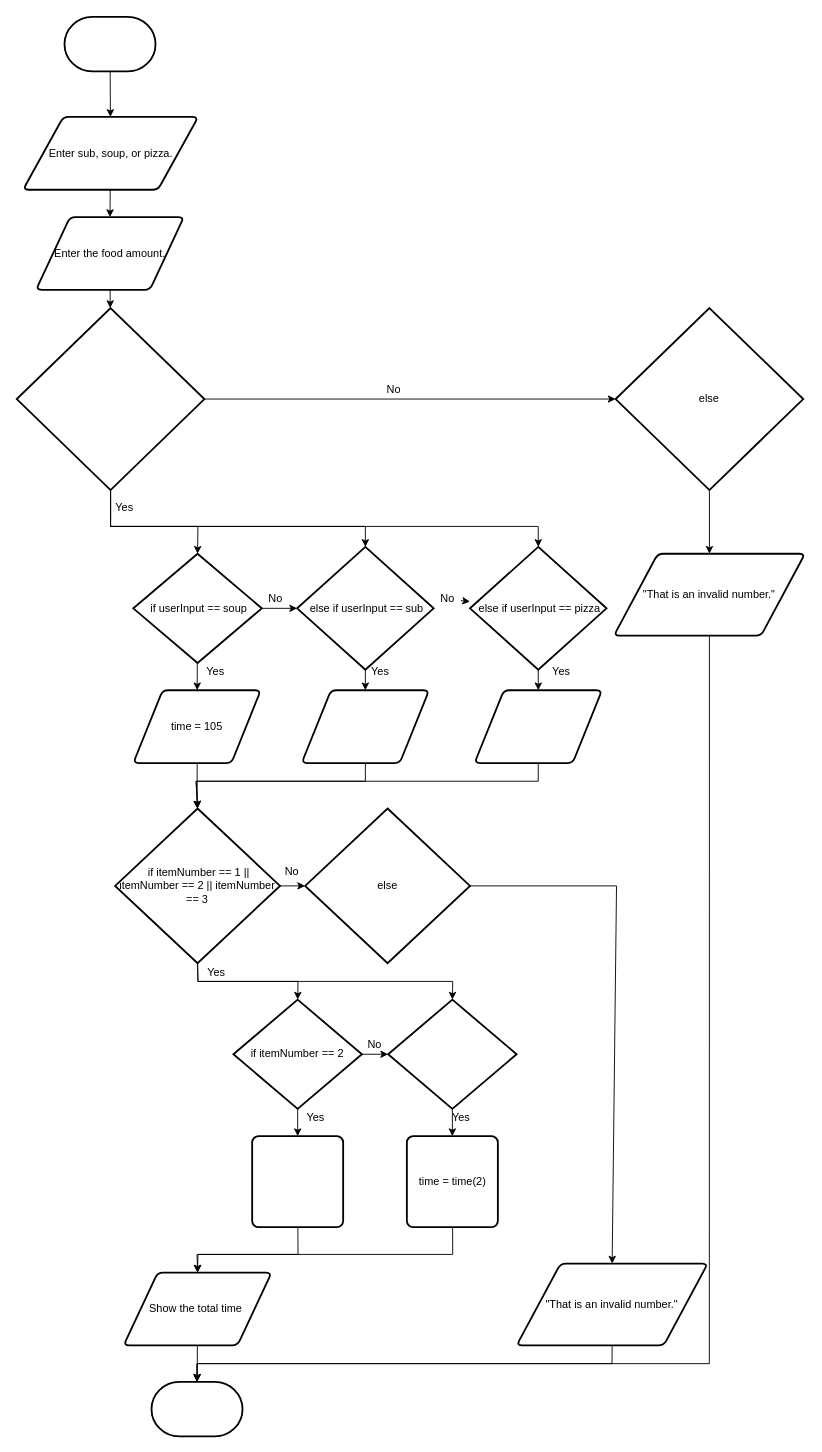
The diagram is 822 pixels wide and 1452 high, and some of its shapes have lost their labels. The shapes that lost their labels are listed below. From the top down, each one's centre as x and y in pixels, then its label:
At pixel 109 43: "Start".
At pixel 110 398: "If userInput == soup || userInput == pizza || userInput == sub".
At pixel 365 726: "time = 60".
At pixel 537 726: "time = 45".
At pixel 452 1053: "else if itemNumber == 3".
At pixel 297 1181: "time = time(1.5)".
At pixel 196 1408: "Stop".
